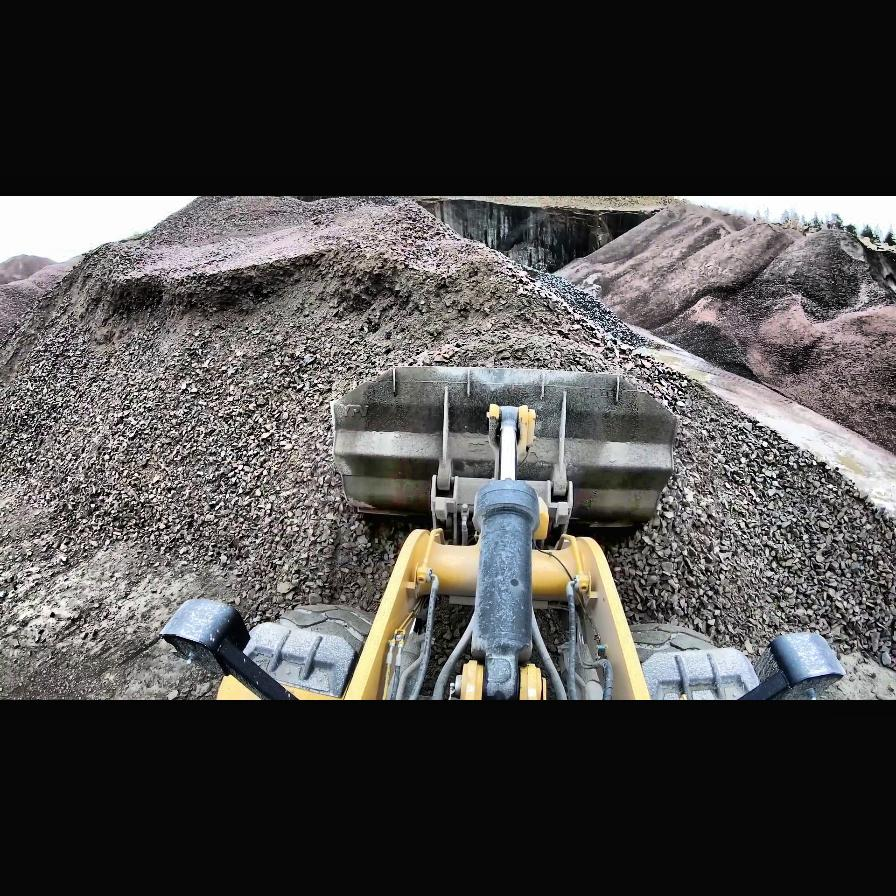anchor: (486, 402, 536, 477)
pile of gravel: (12, 199, 896, 667), (628, 212, 794, 324), (740, 230, 892, 330)
